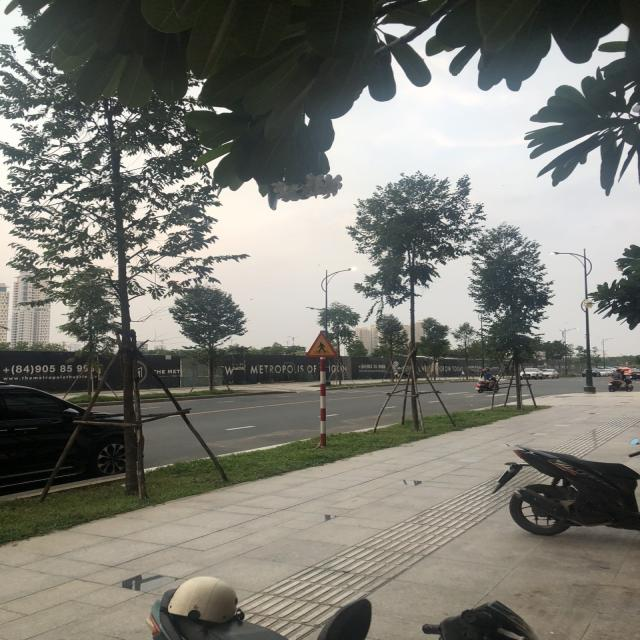Bien bao duong nguoi di bo cat ngang: (301, 330, 340, 358)
